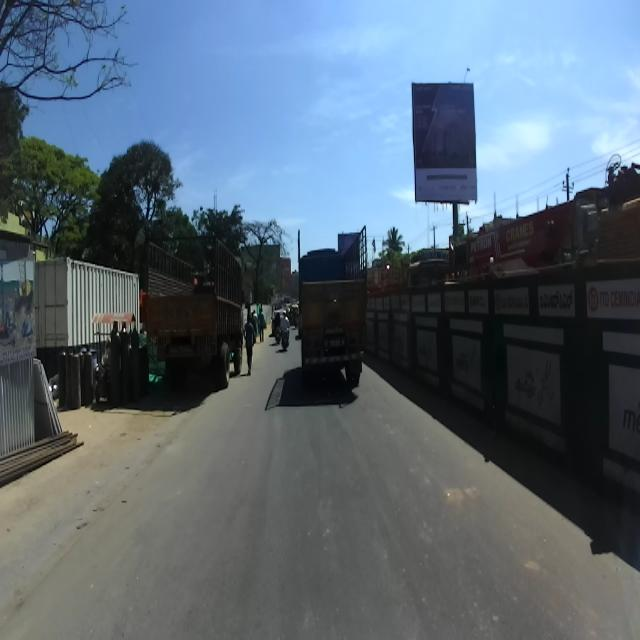truck ahead at: (137, 244, 250, 378), (287, 228, 374, 377)
